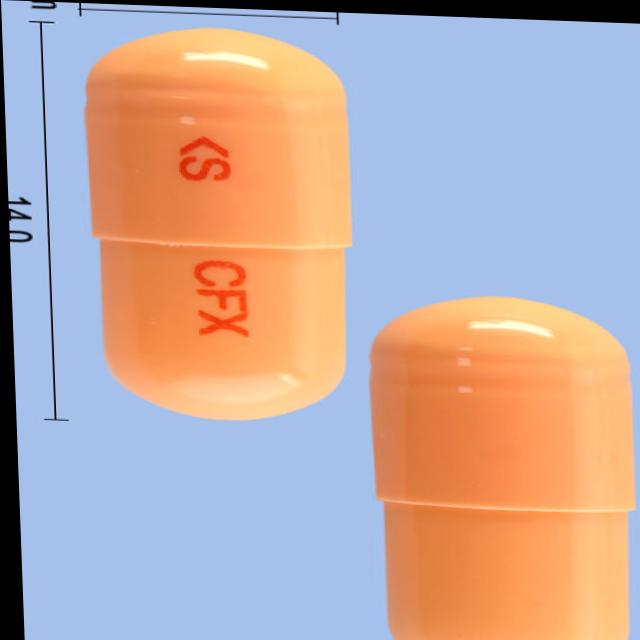Clarimacin: (82, 21, 355, 423), (365, 289, 639, 640)
